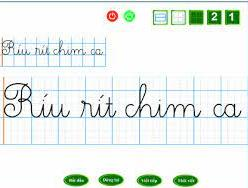text: (3, 82, 242, 118), (0, 40, 104, 56), (140, 177, 158, 184), (177, 177, 196, 183), (103, 177, 120, 183), (68, 178, 84, 184), (210, 12, 218, 21), (229, 12, 235, 22)
